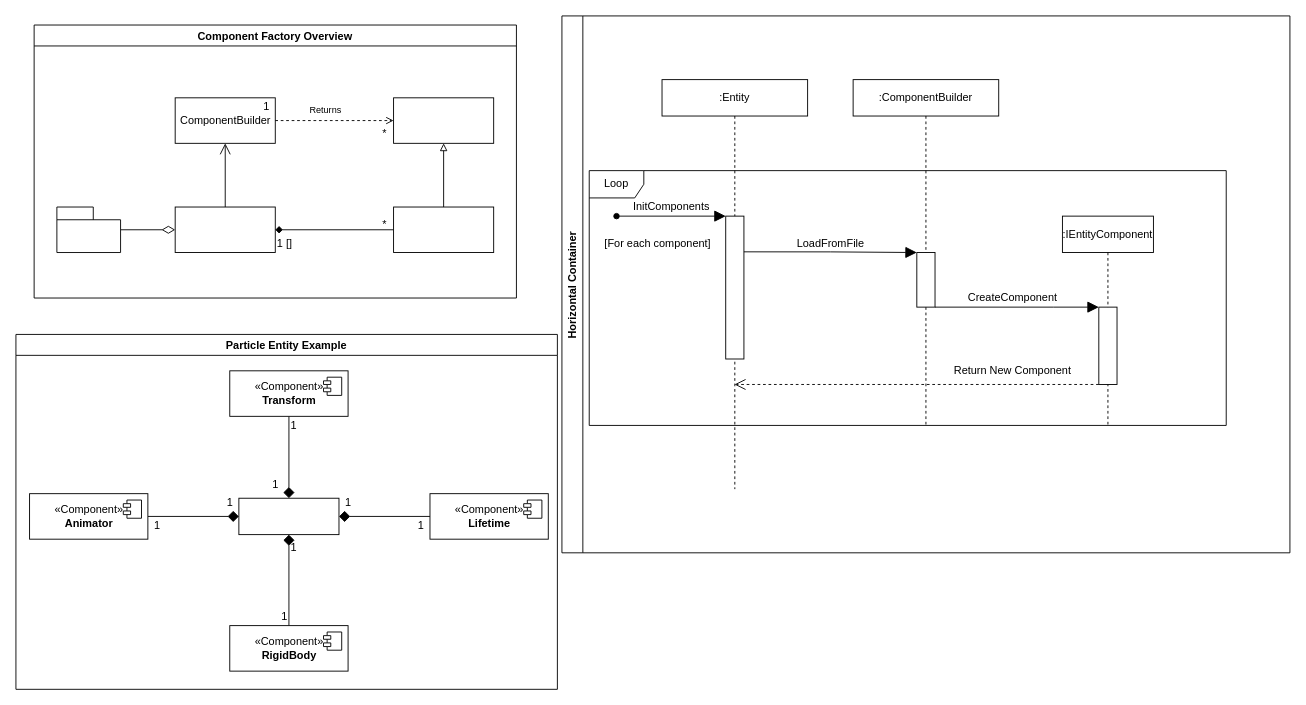
This 1306x705 diagram has some shape labels left out. The shapes that lost their labels are listed below. From the top down, each one's centre as x and y in pixels, then its label:
At point 443,120: "«interface» IEntityComponent".
At point 88,229: "<<XML>> Entity Data".
At point 224,229: "Entity".
At point 443,229: "EntityComponent".
At point 288,516: "Particle : Entity".
